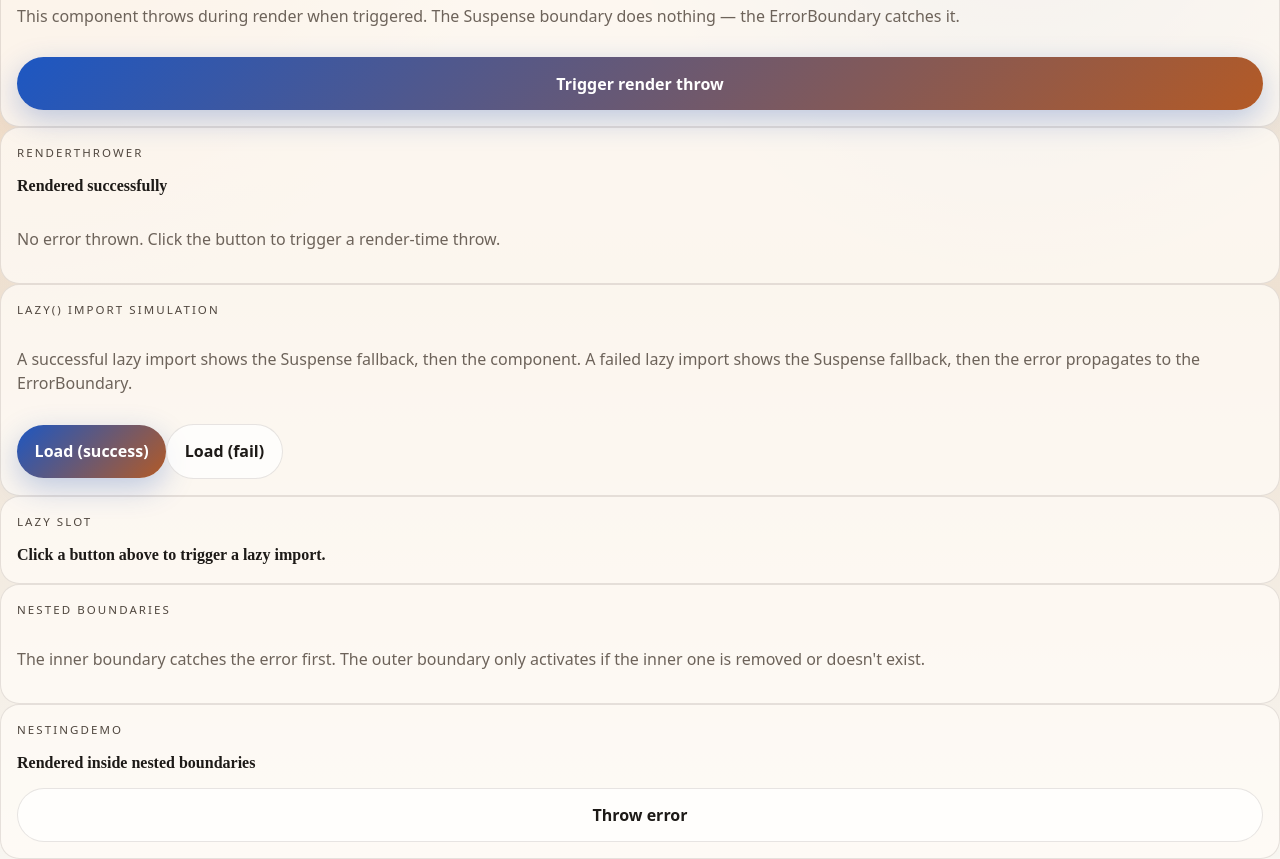
Test: error boundary sample › lets the inner nested boundary catch first
(page scrolled)
Step 1. Click the button "Throw error" → (640, 815), box [17,788,1263,842]
(page scrolled)
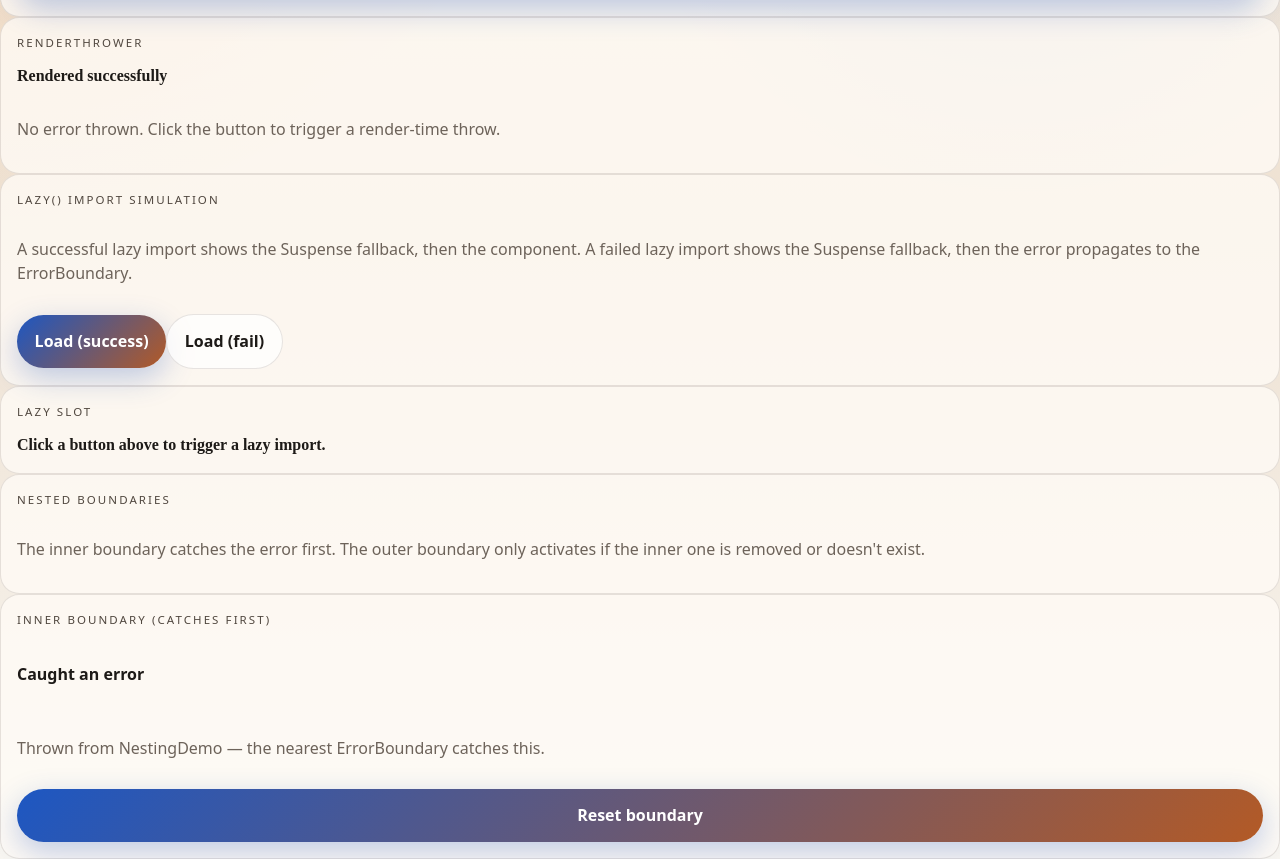
Now the text "Inner boundary (catches first)" is shown, box [17,612,271,627]
Now the heading "Caught an error" is shown, box [17,663,144,685]
Now the text "Thrown from NestingDemo — the nearest ErrorBoundary catches this." is shown, box [17,737,545,759]
